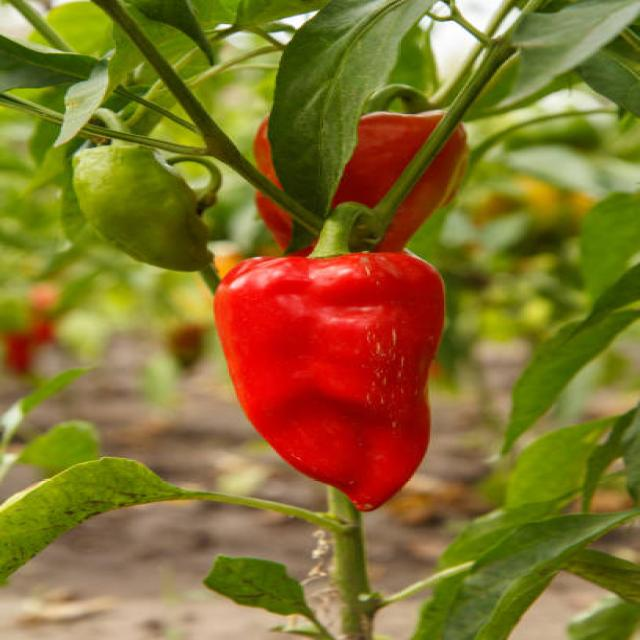Ripe: (215, 253, 442, 509), (339, 108, 469, 246)
Unripe: (74, 144, 207, 270)
